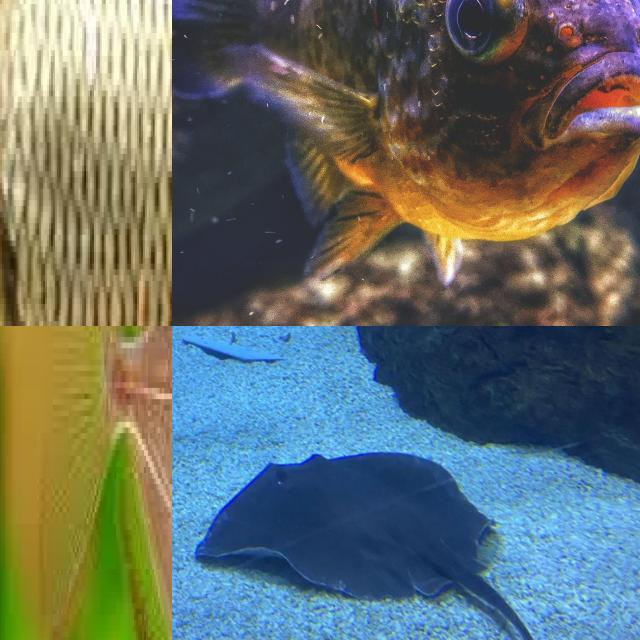fish: (233, 0, 629, 216), (186, 443, 560, 640), (0, 0, 172, 326), (117, 326, 172, 580)
